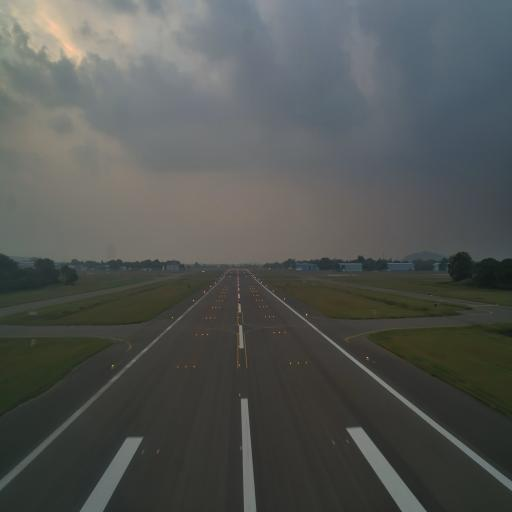on: (330, 437, 336, 447), (345, 436, 351, 446), (141, 446, 146, 454), (239, 444, 243, 454), (156, 448, 160, 456), (110, 362, 114, 370), (366, 354, 370, 361), (297, 359, 300, 366), (304, 360, 308, 365), (239, 392, 242, 398), (289, 361, 292, 366), (177, 364, 179, 370), (238, 363, 240, 369), (185, 364, 187, 369), (193, 364, 195, 369)
